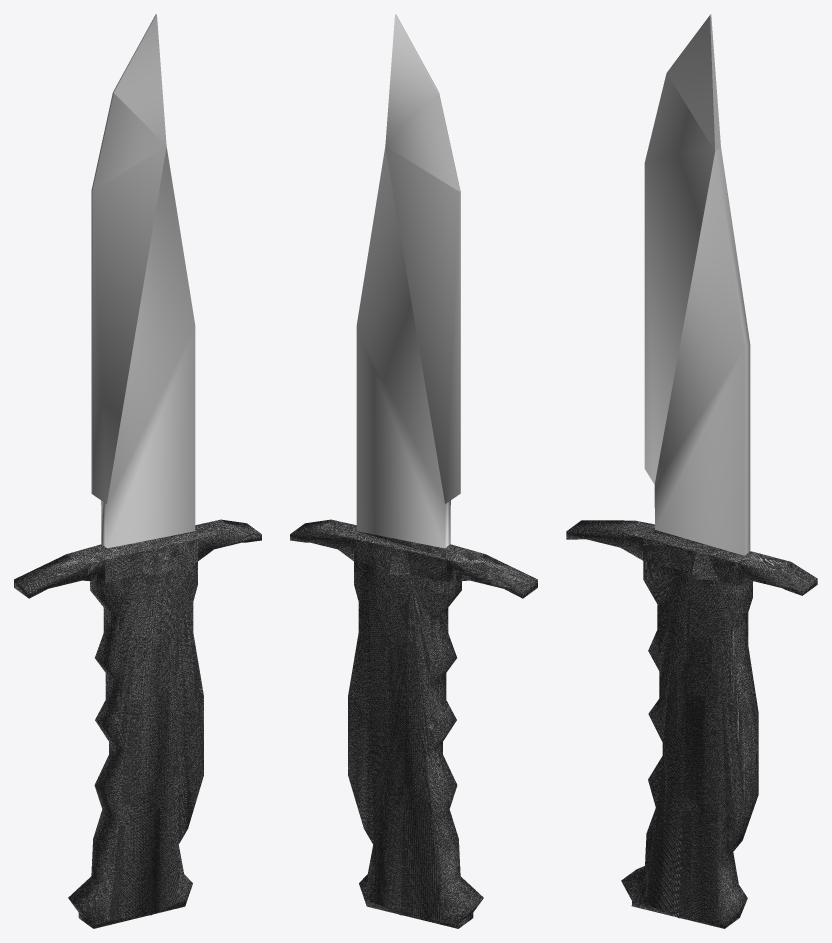
The model's file is Couteau_Master_2.fbx.
3 views of the same model, side by side, from view 1: azimuth 30°, elevation 25°; view 2: azimuth 150°, elevation 25°; view 3: azimuth 330°, elevation 25° (orthographic).
Parts seen in each view (by area): view 1: ID21, couteau; view 2: ID21, couteau; view 3: ID21, couteau.
Boxes of the visible parts, box(x1,y1,x2,y2) form: ID21: box(91, 14, 195, 548); couteau: box(14, 519, 261, 928); ID21: box(356, 14, 460, 548); couteau: box(290, 519, 537, 928); ID21: box(644, 14, 750, 555); couteau: box(566, 520, 817, 928).
Size of the model in its own units: 4.6 by 0.9055 by 16.82.
